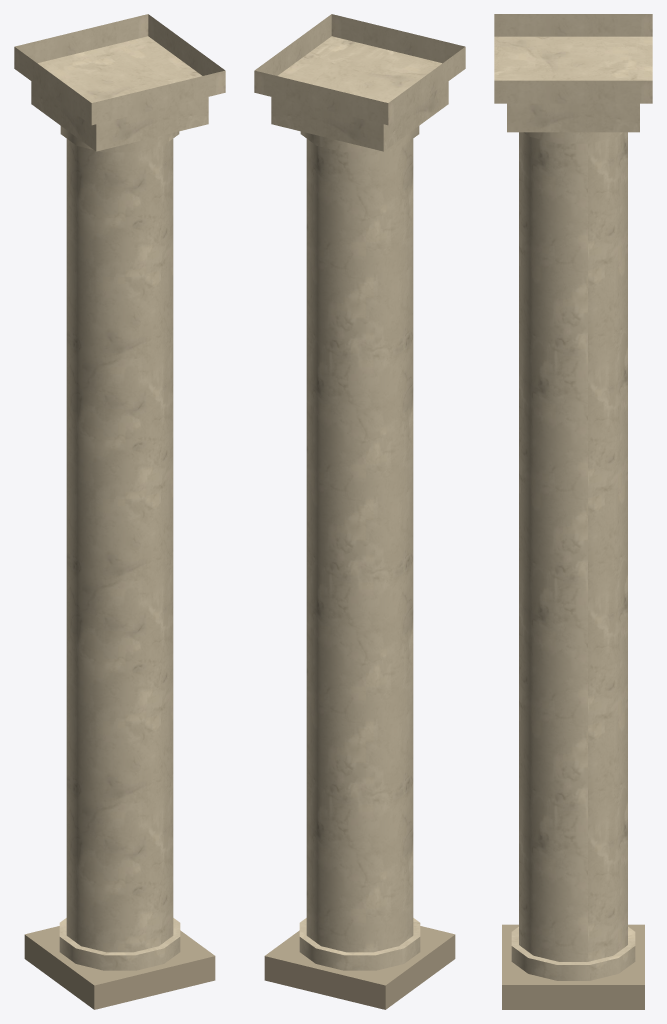
Rendered from column.glb.
3 renders of one model, left to right at view 1: azimuth 30°, elevation 25°; view 2: azimuth 150°, elevation 25°; view 3: azimuth 270°, elevation 25°, orthographic. The views are drawn at different scales.
Visible parts, largest first — view 1: column; view 2: column; view 3: column.
Part boxes in pixels (bbox=[...]): column: bbox=[14, 14, 225, 1009]; column: bbox=[254, 14, 465, 1009]; column: bbox=[494, 14, 652, 1009].
Size of the model in its own units: 1.26 by 8.2 by 1.26.
2 materials, 1 textured.
